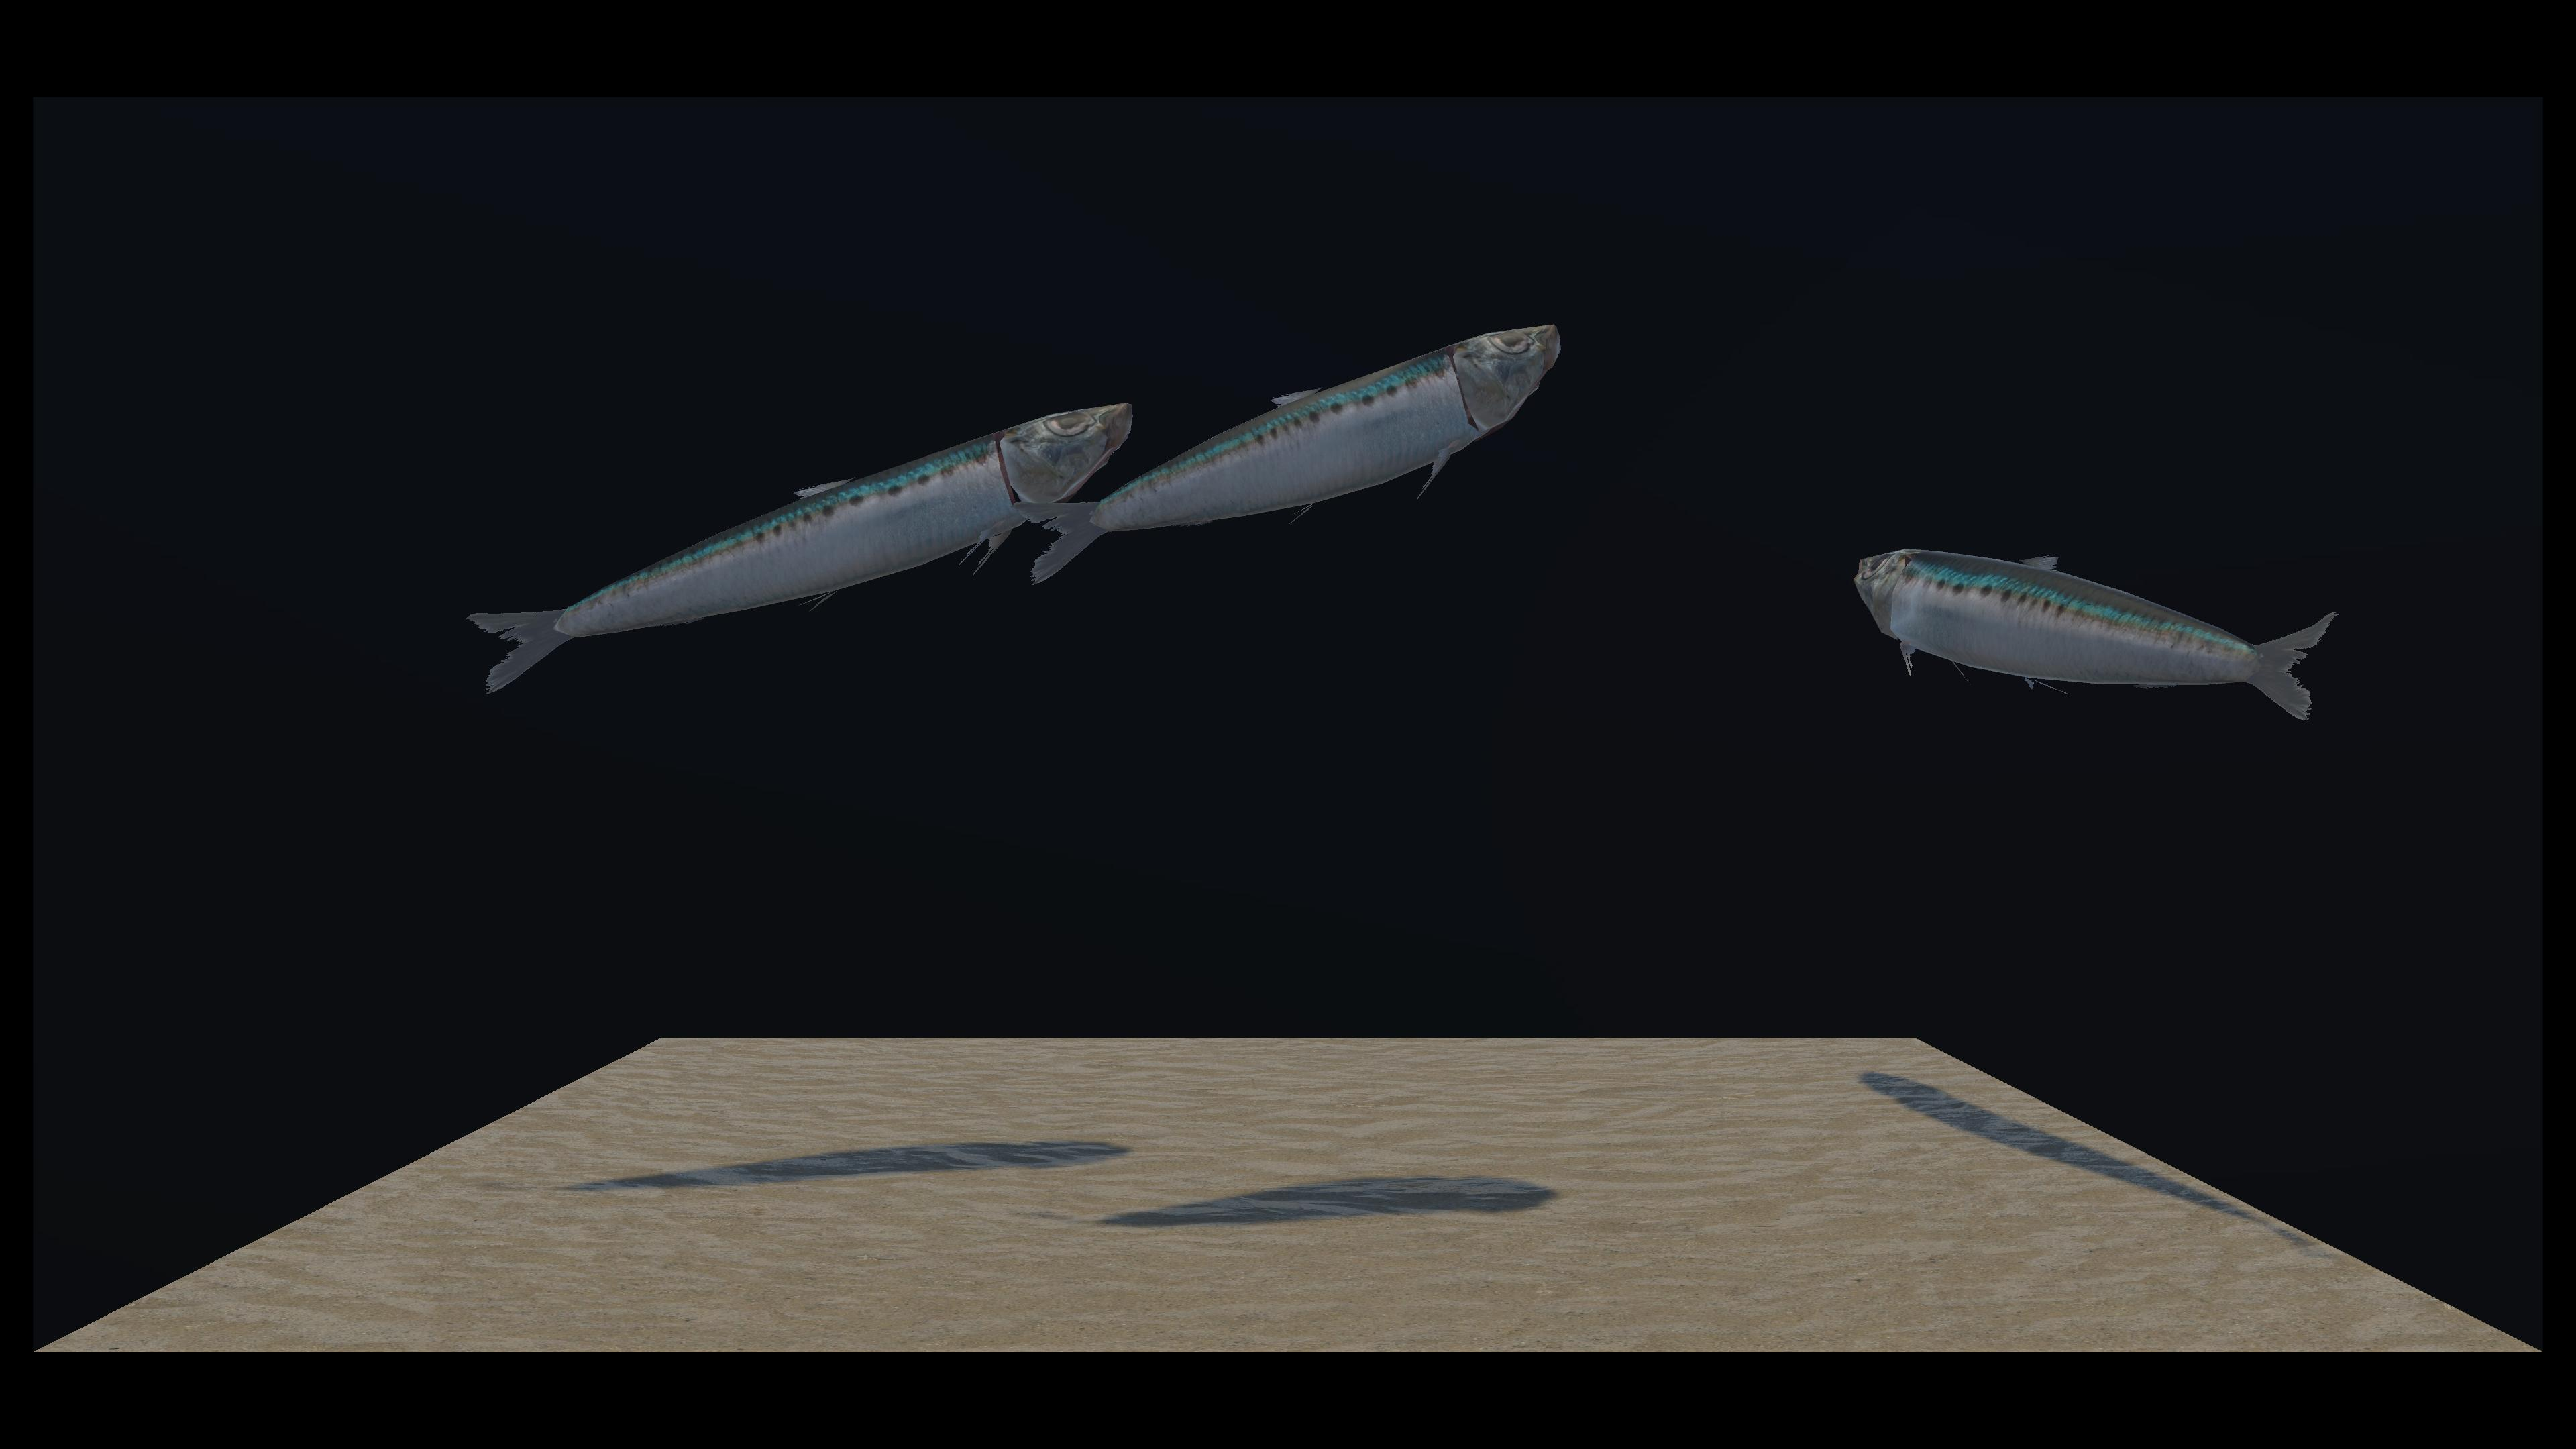Sardine_Front: (780, 557, 2335, 718), (732, 327, 1550, 586), (472, 405, 1125, 690)
